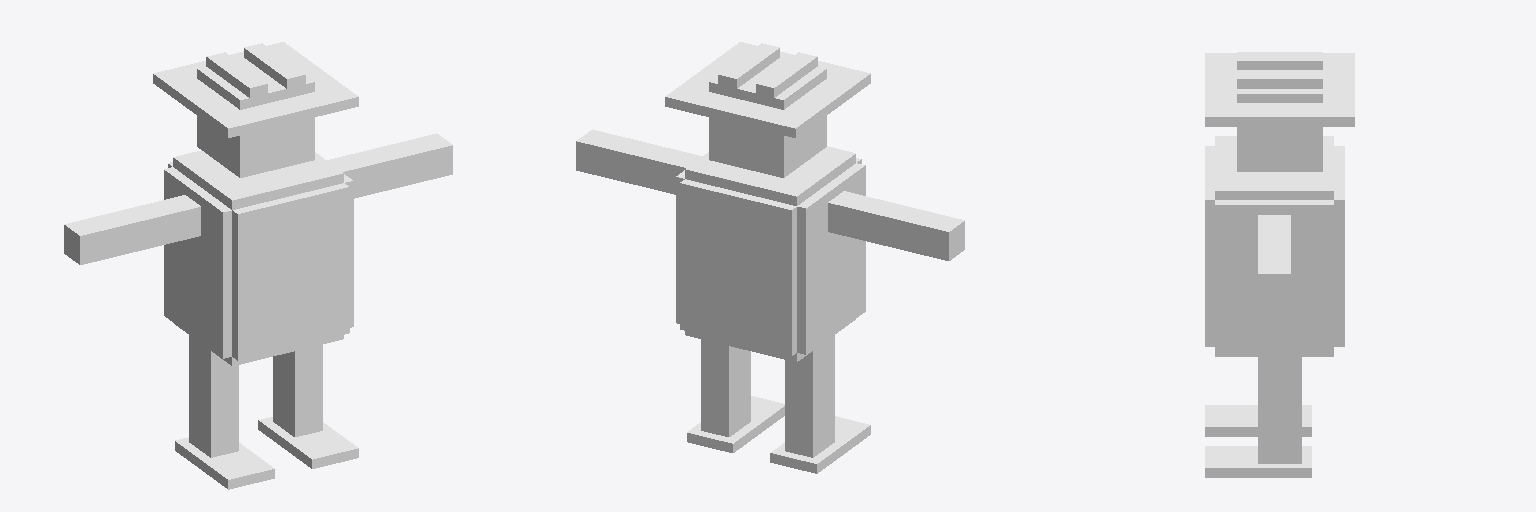
The model's file is Character1.obj.
3 renders of one model, left to right at view 1: azimuth 30°, elevation 25°; view 2: azimuth 150°, elevation 25°; view 3: azimuth 270°, elevation 25°, orthographic.
Size of the model in its own units: 40 by 39 by 14.